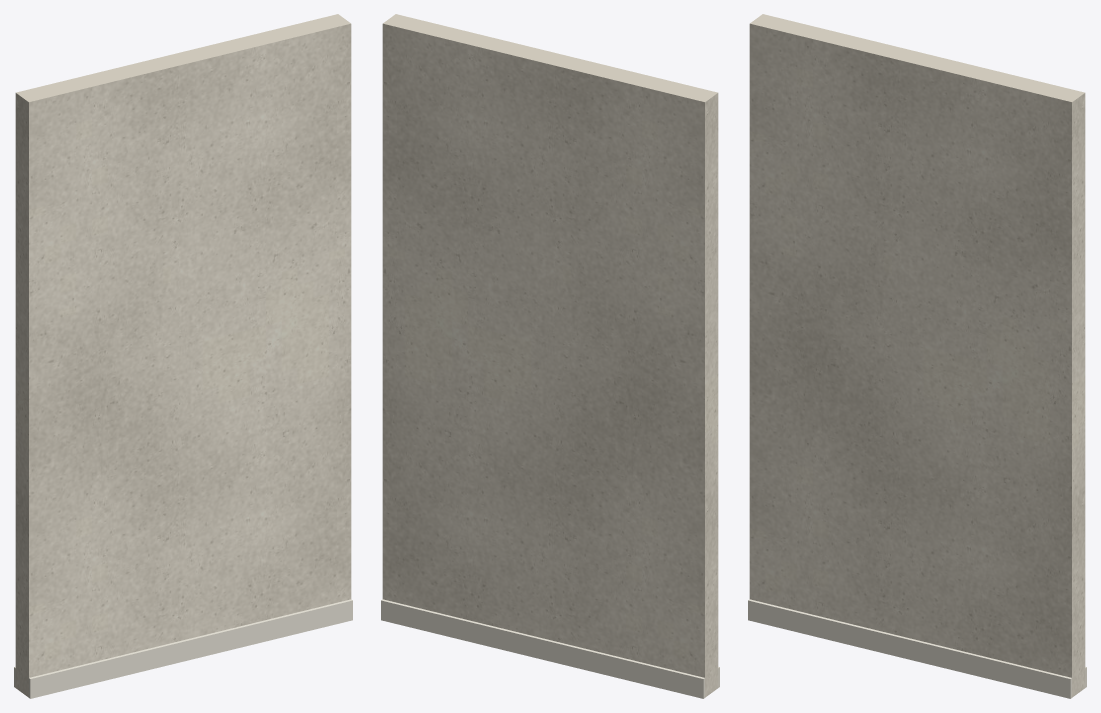
The model's file is interior_wall_end_ground.glb.
3 renders of one model, left to right at view 1: azimuth 30°, elevation 25°; view 2: azimuth 150°, elevation 25°; view 3: azimuth 330°, elevation 25°, orthographic.
Parts seen in each view (by area): view 1: interior_wall_end_ground_plaster, interior_wall_end_ground_trim; view 2: interior_wall_end_ground_plaster, interior_wall_end_ground_trim; view 3: interior_wall_end_ground_plaster, interior_wall_end_ground_trim.
Part boxes in pixels (x1=…): interior_wall_end_ground_plaster: x1=15, y1=14, x2=351, y2=697; interior_wall_end_ground_trim: x1=14, y1=599, x2=352, y2=698; interior_wall_end_ground_plaster: x1=382, y1=14, x2=718, y2=697; interior_wall_end_ground_trim: x1=381, y1=599, x2=719, y2=698; interior_wall_end_ground_plaster: x1=749, y1=14, x2=1085, y2=697; interior_wall_end_ground_trim: x1=748, y1=599, x2=1086, y2=698.
Bounding box in the file's own units: 1.7 × 3 × 0.15.
2 materials, 1 textured.
